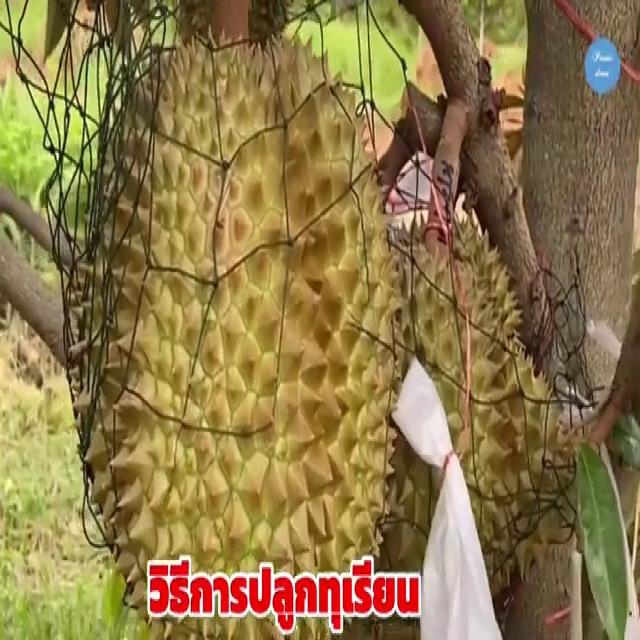durian: (62, 16, 406, 638), (268, 213, 582, 635)
